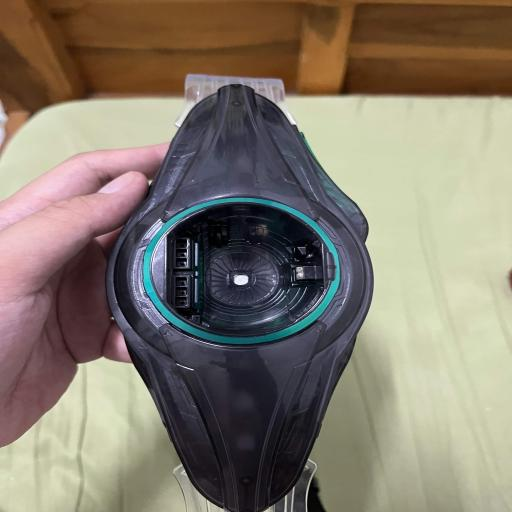zeztzdriver: (106, 75, 373, 512), (263, 460, 317, 512), (174, 465, 227, 512)
